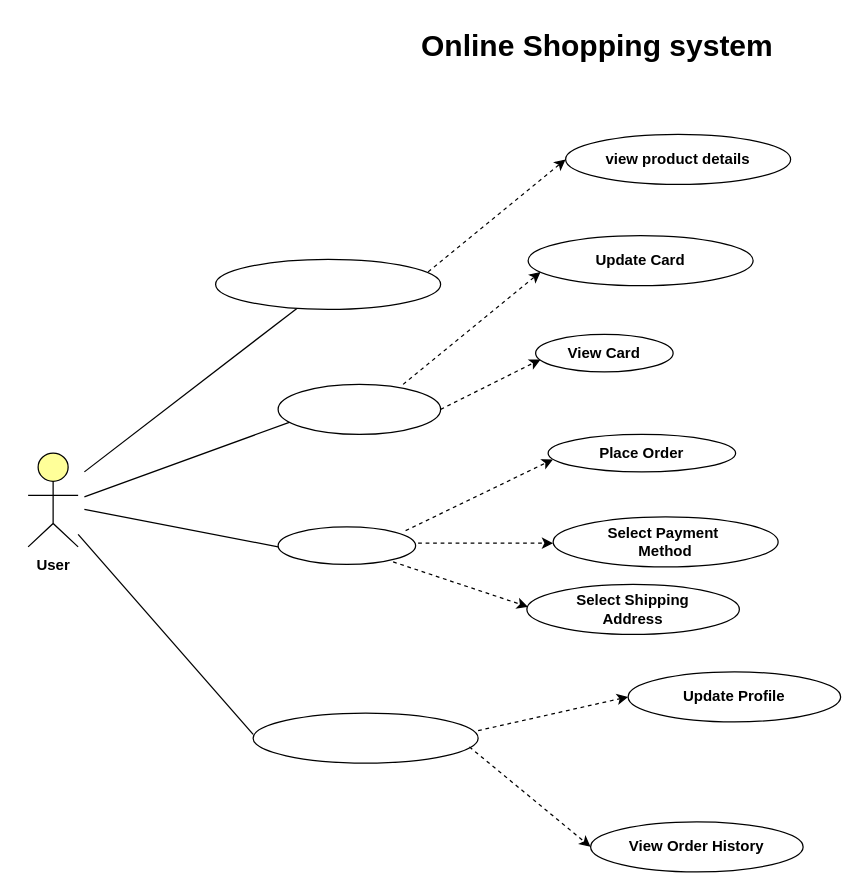
This 863x894 diagram has some shape labels left out. Here are the shapes that lost their labels. From the top down, the centre of each, then its label:
the point at 327,283: Search Products
the point at 359,408: Add to Card
the point at 346,545: Checkout
the point at 365,737: Manage Account
